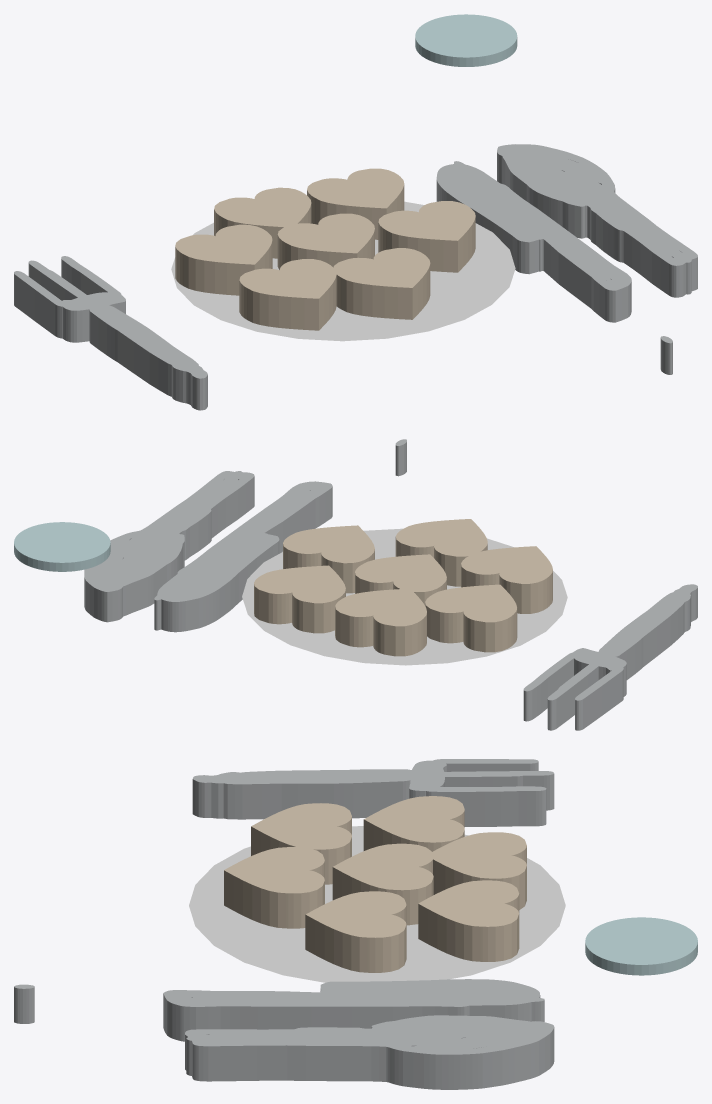
The model's file is Zoe p ch - Plate, Fork.glb.
3 renders of one model, top to bottom at view 1: azimuth 30°, elevation 25°; view 2: azimuth 150°, elevation 25°; view 3: azimuth 270°, elevation 25°, orthographic. The views are drawn at different scales.
Parts seen in each view (by area): view 1: Mesh_Mesh_head_geo.001_lambert2SG.001; view 2: Mesh_Mesh_head_geo.001_lambert2SG.001; view 3: Mesh_Mesh_head_geo.001_lambert2SG.001.
Part boxes in pixels (x1,y1,x2,y2): Mesh_Mesh_head_geo.001_lambert2SG.001: [14, 14, 697, 410]; Mesh_Mesh_head_geo.001_lambert2SG.001: [14, 439, 697, 730]; Mesh_Mesh_head_geo.001_lambert2SG.001: [14, 759, 697, 1089].
Size of the model in its own units: 0.18 by 0.035 by 0.176.
